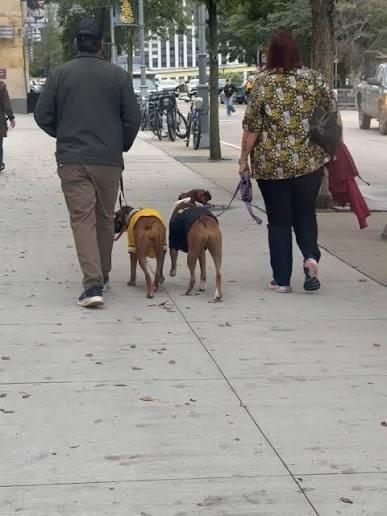adult_dog: (166, 189, 224, 303), (112, 205, 167, 298)
